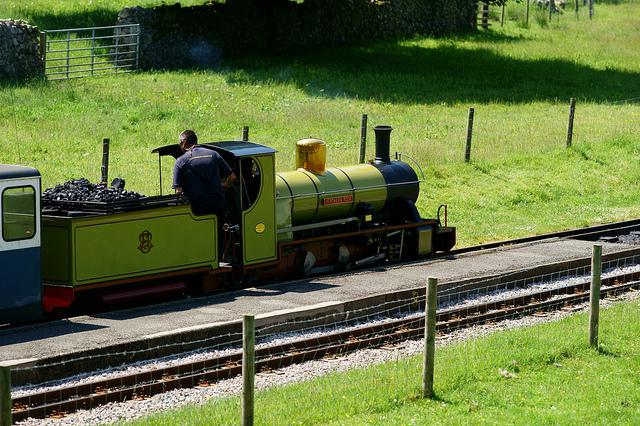Train: (2, 113, 459, 328)
